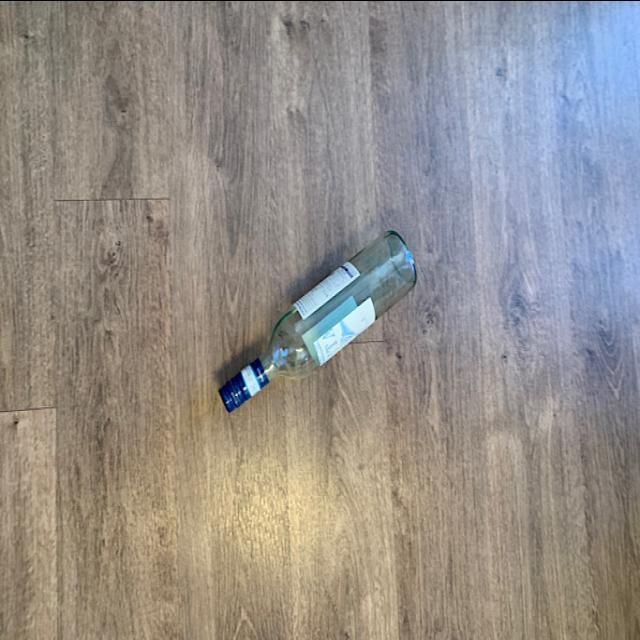Glass Bottle: (213, 223, 420, 415)
